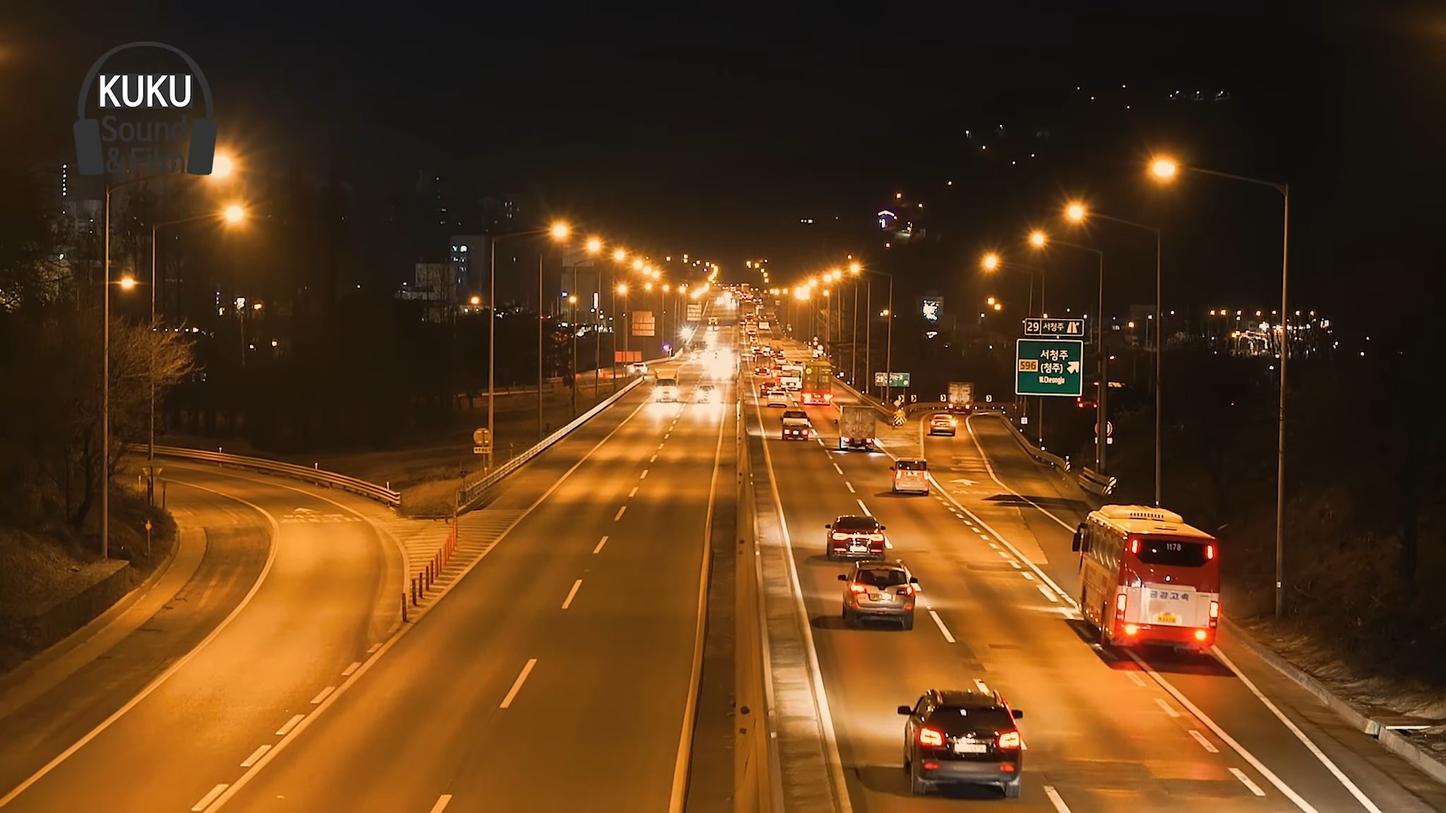car: (1075, 503, 1226, 661), (904, 685, 1028, 798), (842, 560, 919, 628), (821, 516, 894, 573), (886, 457, 938, 496)
